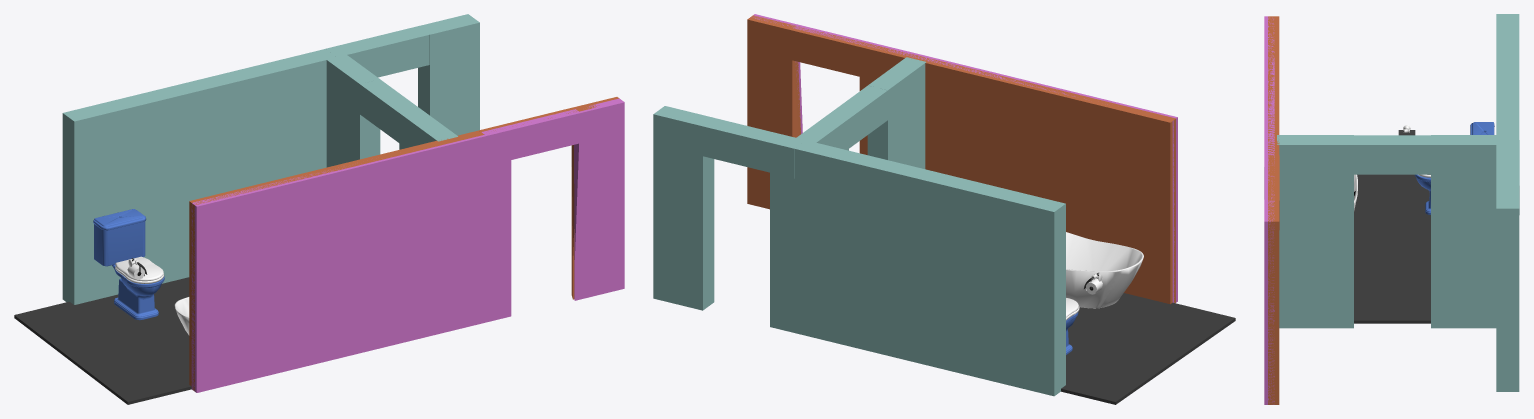
The model's file is homeBathroom.FBX.
3 renders of one model, left to right at view 1: azimuth 30°, elevation 25°; view 2: azimuth 150°, elevation 25°; view 3: azimuth 270°, elevation 25°, orthographic.
Visible parts, largest first — view 1: Line2097, Line039, Line2094, Line013, Line468, 6003, 6001-6002, 23-23N; view 2: Line039, Line468, Line2094, Line013, Box013, Line2097; view 3: Line013, Line2094, Line039, Line468, Line2097, 6003, 6001-6002.
Part boxes in pixels (bbox=[...]): Line2097: bbox=[191, 98, 624, 392]; Line039: bbox=[62, 14, 479, 304]; Line2094: bbox=[14, 277, 191, 404]; Line013: bbox=[321, 53, 457, 167]; Line468: bbox=[189, 97, 619, 391]; 6003: bbox=[93, 209, 146, 266]; 6001-6002: bbox=[112, 264, 164, 320]; 23-23N: bbox=[115, 256, 164, 283]; Line039: bbox=[653, 106, 1065, 396]; Line468: bbox=[747, 15, 1175, 304]; Line2094: bbox=[1061, 293, 1235, 404]; Line013: bbox=[796, 57, 925, 168]; Box013: bbox=[1066, 232, 1143, 308]; Line2097: bbox=[752, 14, 1177, 302]; Line013: bbox=[1277, 135, 1508, 328]; Line2094: bbox=[1354, 174, 1430, 323]; Line039: bbox=[1496, 14, 1519, 391]; Line468: bbox=[1268, 16, 1279, 404]; Line2097: bbox=[1264, 16, 1274, 404]; 6003: bbox=[1470, 122, 1494, 134]; 6001-6002: bbox=[1414, 174, 1430, 214].
Bounding box in the file's own units: 173 × 62.72 × 78.98.
